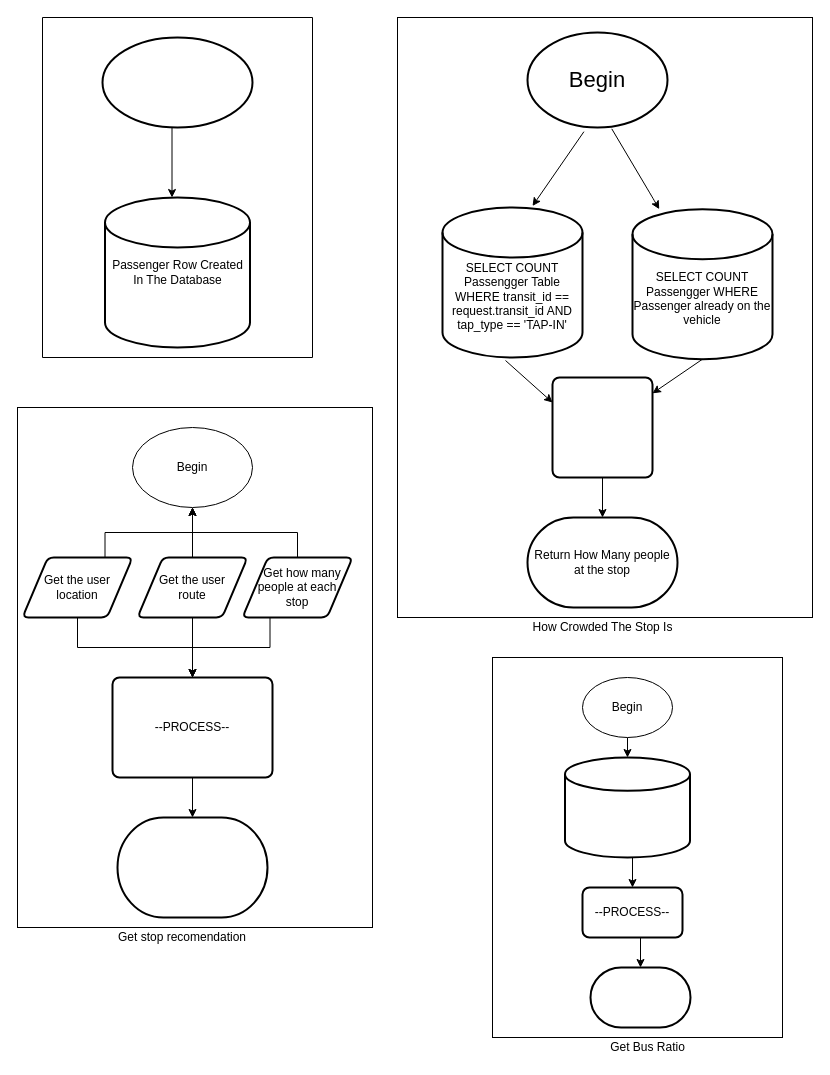
The diagram is 830 pixels wide and 1075 high, and some of its shapes have lost their labels. The shapes that lost their labels are listed below. From the top down, each one's box as (x1, y1, x2, y2) in pixels, then its label:
(101, 36, 253, 128): Card Tapped On The Machine
(42, 16, 312, 358): Create Passenger
(551, 376, 653, 478): -Process-
(564, 756, 690, 858): COUNT How many passenger on the bus
(116, 816, 268, 918): Return stop recomendation
(589, 966, 691, 1028): Return Bus Ratio
